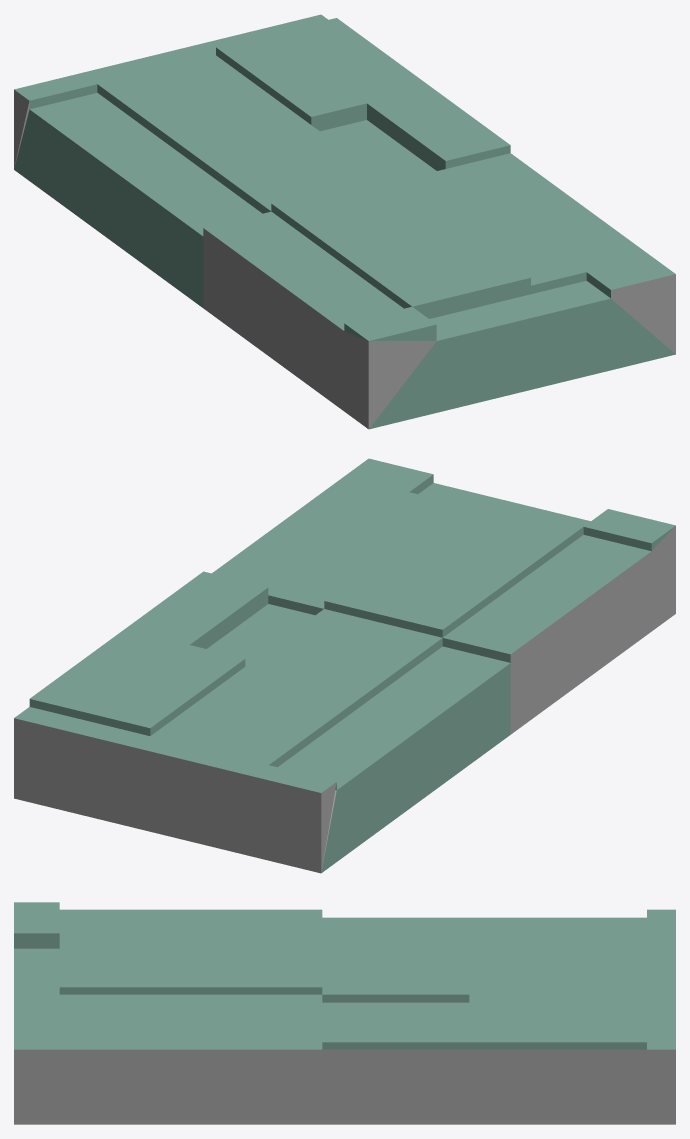
Rendered from blockyblock.fbx.
3 views of the same model, one above another, from view 1: azimuth 30°, elevation 25°; view 2: azimuth 150°, elevation 25°; view 3: azimuth 270°, elevation 25° (orthographic). The views are drawn at different scales.
Visible parts, largest first — view 1: x4_Floor2; view 2: x4_Floor2; view 3: x4_Floor2.
Part boxes in pixels (bbox=[...]): x4_Floor2: bbox=[14, 14, 675, 429]; x4_Floor2: bbox=[14, 458, 675, 873]; x4_Floor2: bbox=[14, 902, 675, 1124].
Size of the model in its own units: 2 by 0.5496 by 4.
